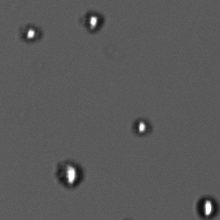Living Cell: (55, 159, 85, 189), (82, 9, 104, 35), (195, 195, 218, 218), (19, 23, 42, 43), (132, 116, 152, 137)
